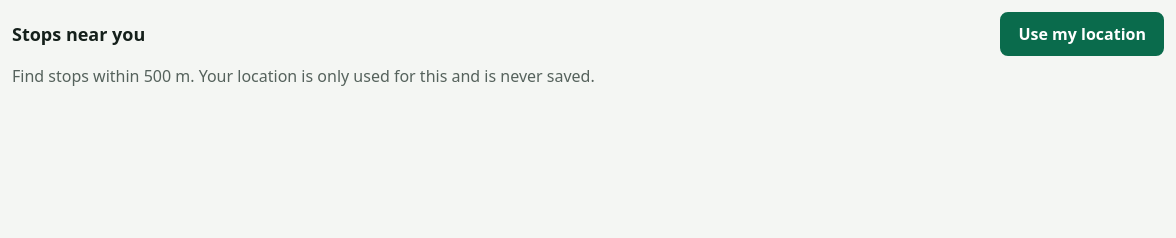
it: NearbyStops › lists stops nearest first with their distance, linking to arrivals
Click the button "Use my location".
click(1082, 34)  # box [1000,12,1164,56]
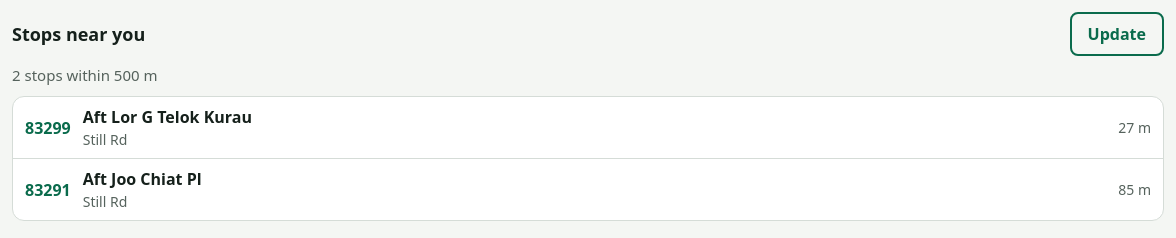
Expected: the button "Update" is enabled, [1070,12,1164,56]
Result: the links read "83299Aft Lor G Telok KurauStill Rd27 m away", "83291Aft Joo Chiat PlStill Rd85 m away", in this order at [13,97,1163,158]; [13,159,1163,220]
Result: the message reads "2 stops within 500 m" at [12,65,158,85]
